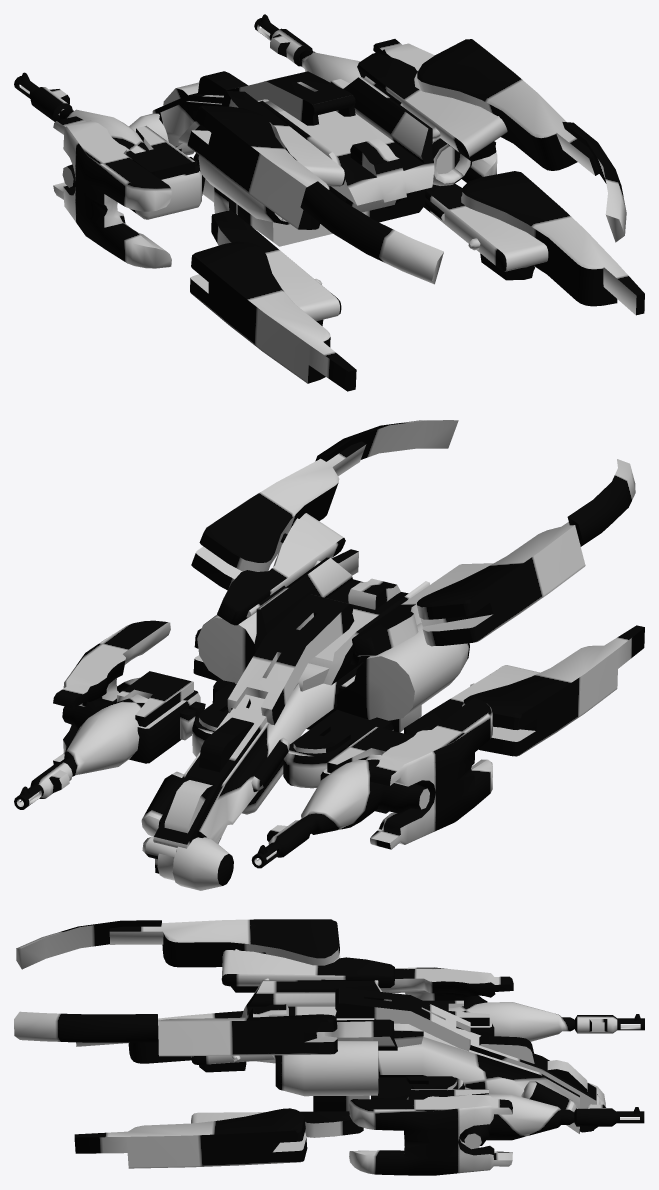
Rendered from mimesis.obj.
3 views of the same model, one above another, from view 1: azimuth 30°, elevation 25°; view 2: azimuth 150°, elevation 25°; view 3: azimuth 270°, elevation 25° (orthographic). The views are drawn at different scales.
Parts seen in each view (by area): view 1: shipMesh; view 2: shipMesh; view 3: shipMesh.
Boxes of the visible parts, x1=… form: shipMesh: x1=14, y1=14, x2=644, y2=391; shipMesh: x1=14, y1=420, x2=644, y2=890; shipMesh: x1=14, y1=919, x2=644, y2=1175.
Size of the model in its own units: 109 by 57.16 by 200.
1 material, 1 textured.
